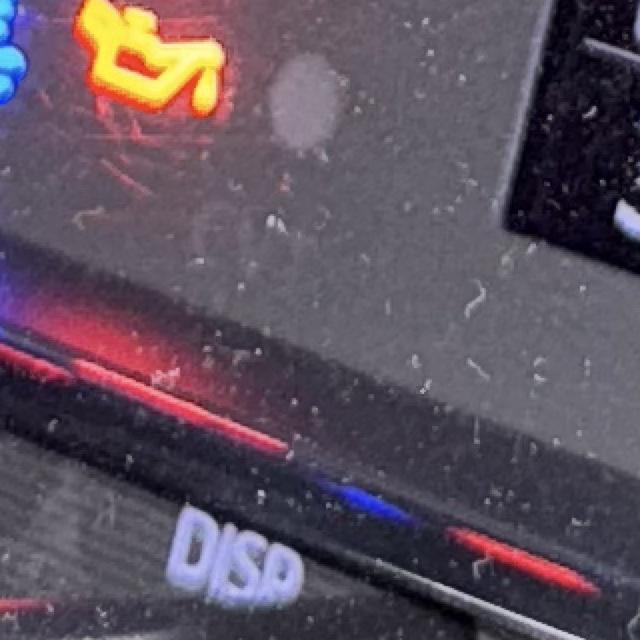Low Oil Pressure Issue: (70, 1, 230, 121)
